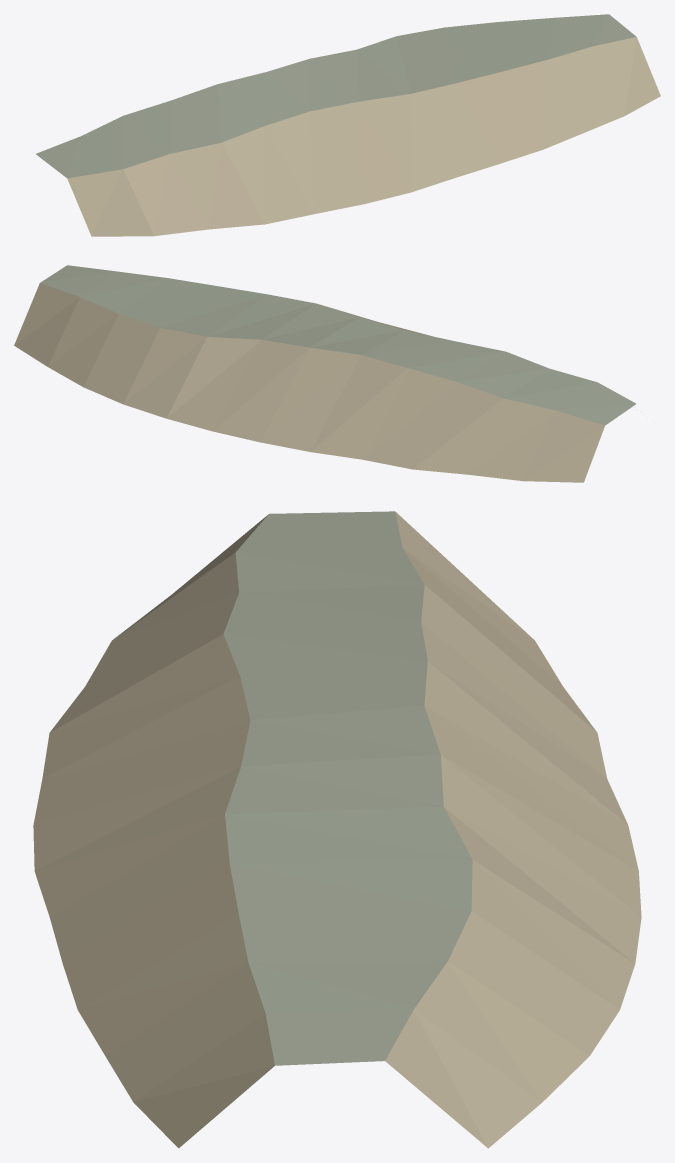
The model's file is terrain_bank_b.glb.
3 renders of one model, top to bottom at view 1: azimuth 30°, elevation 25°; view 2: azimuth 150°, elevation 25°; view 3: azimuth 270°, elevation 25°, orthographic. The views are drawn at different scales.
Visible parts, largest first — view 1: bank_cut_2, bank_crown; view 2: bank_cut_0, bank_crown; view 3: bank_crown, bank_cut_2, bank_cut_0.
Part boxes in pixels (x1=…): bank_cut_2: x1=67, y1=37, x2=660, y2=236; bank_crown: x1=36, y1=14, x2=636, y2=178; bank_cut_0: x1=14, y1=283, x2=604, y2=482; bank_crown: x1=40, y1=265, x2=636, y2=425; bank_crown: x1=223, y1=511, x2=472, y2=1065; bank_cut_2: x1=33, y1=515, x2=274, y2=1148; bank_cut_0: x1=385, y1=512, x2=641, y2=1148.
Size of the model in its own units: 9 by 0.9062 by 4.17.
